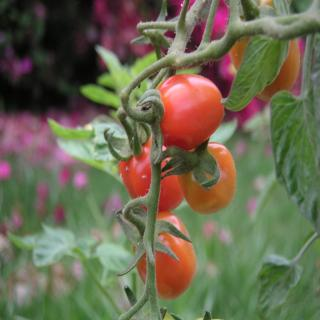tomato: (231, 0, 300, 108), (135, 72, 224, 149), (120, 131, 188, 215), (132, 210, 195, 298), (177, 139, 238, 214)
